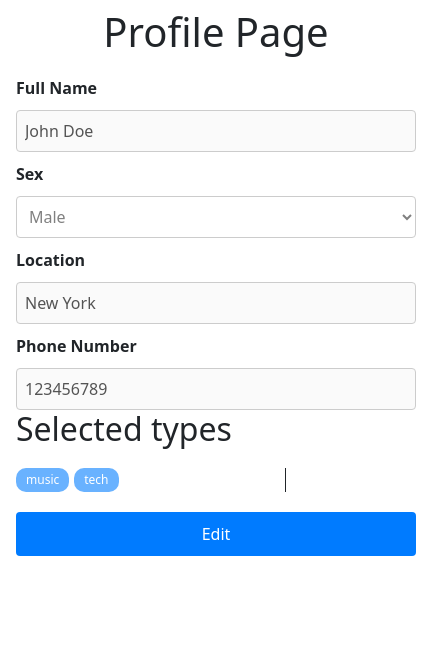
Test: ProfilePage › cancels edit mode and reverts changes
Click the button "Edit" at coordinates (216, 534), box [16,512,416,556]
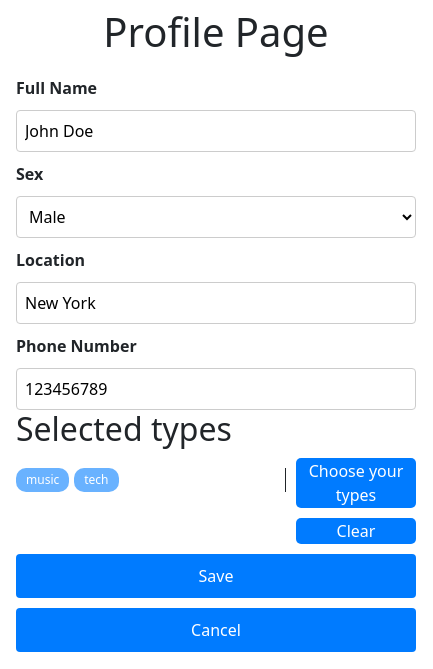
Replace the text in the field showing "John Doe" below "Full Name" with "Changed Name" at coordinates (216, 131), box [16,110,416,152]
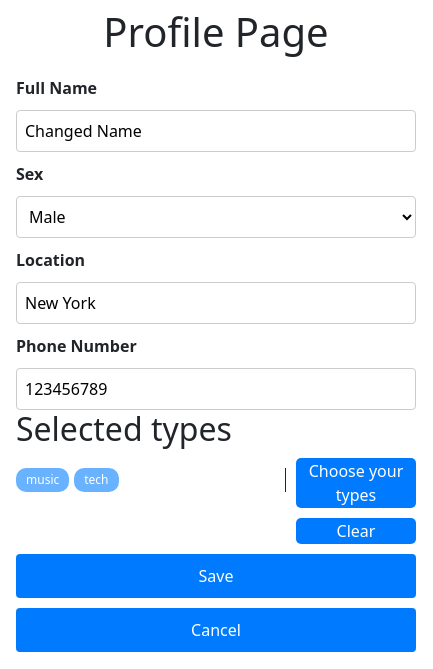
Click the button "Cancel" at coordinates (216, 630), box [16,608,416,652]
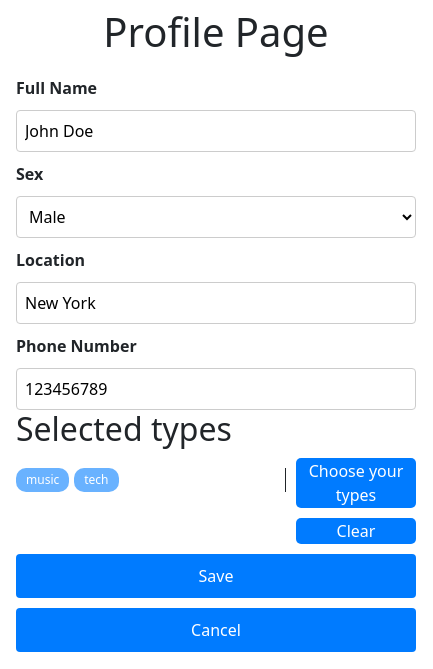
Check: the field showing "John Doe" below "Full Name" holds "John Doe", box [16,110,416,152]
